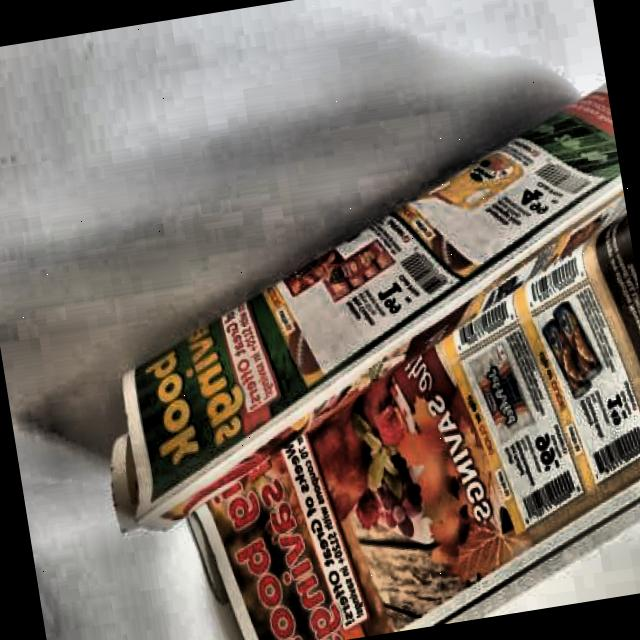paper: (52, 68, 640, 640)
